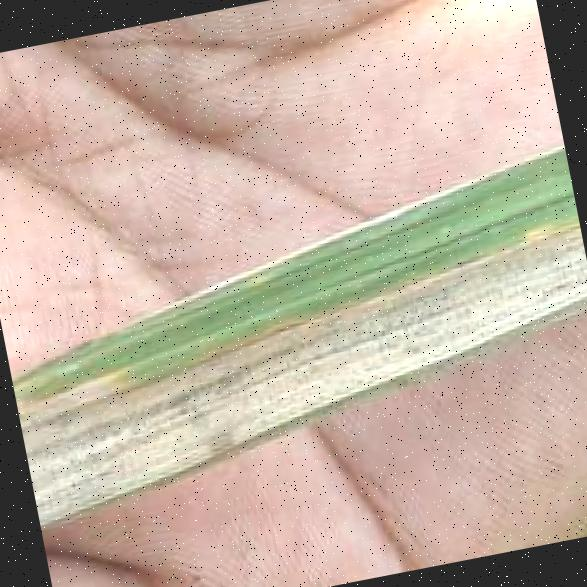Bacteria_Leaf_Blight: (84, 233, 587, 460)
